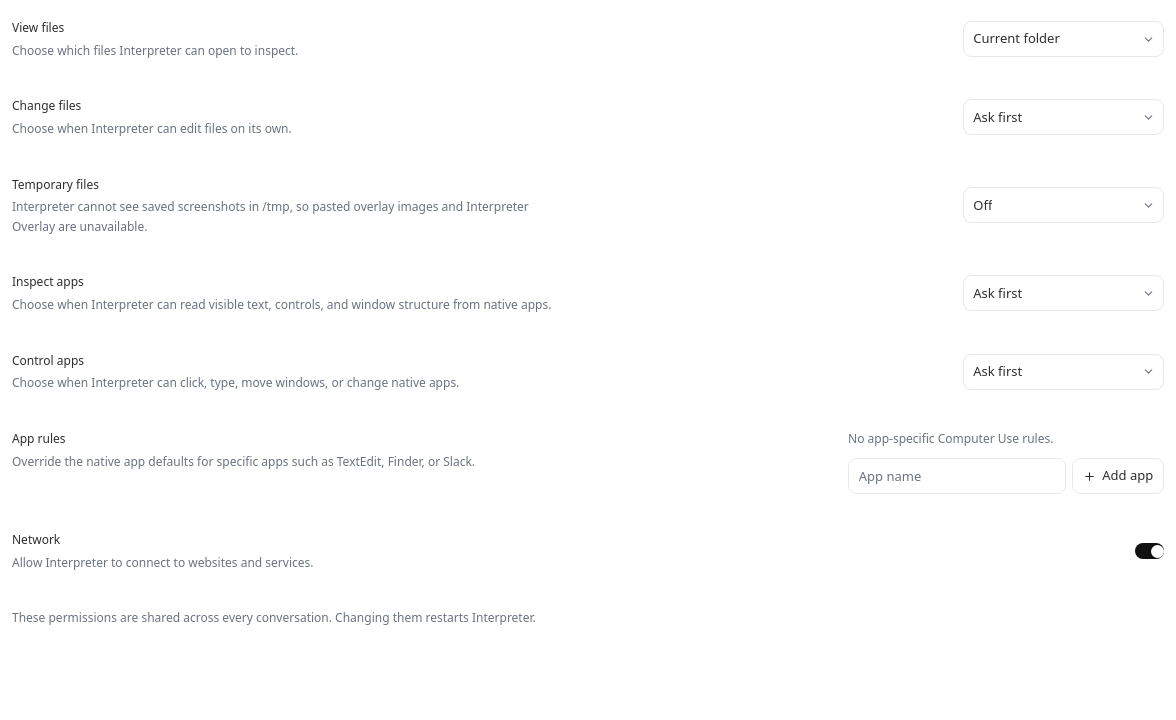
Scenario: NativeToolsSection › warns that turning off temporary files disables overlay screenshots
Expected: the text "Temporary files" is shown, left=12, top=176, right=99, bottom=192
Expected: the text "Interpreter cannot see saved screenshots in /tmp, so pasted overlay images and Interpreter Overlay are unavailable." is shown, left=12, top=198, right=529, bottom=235
Click the dropdown labelled "Off": [1063, 205] box left=962, top=187, right=1164, bottom=223
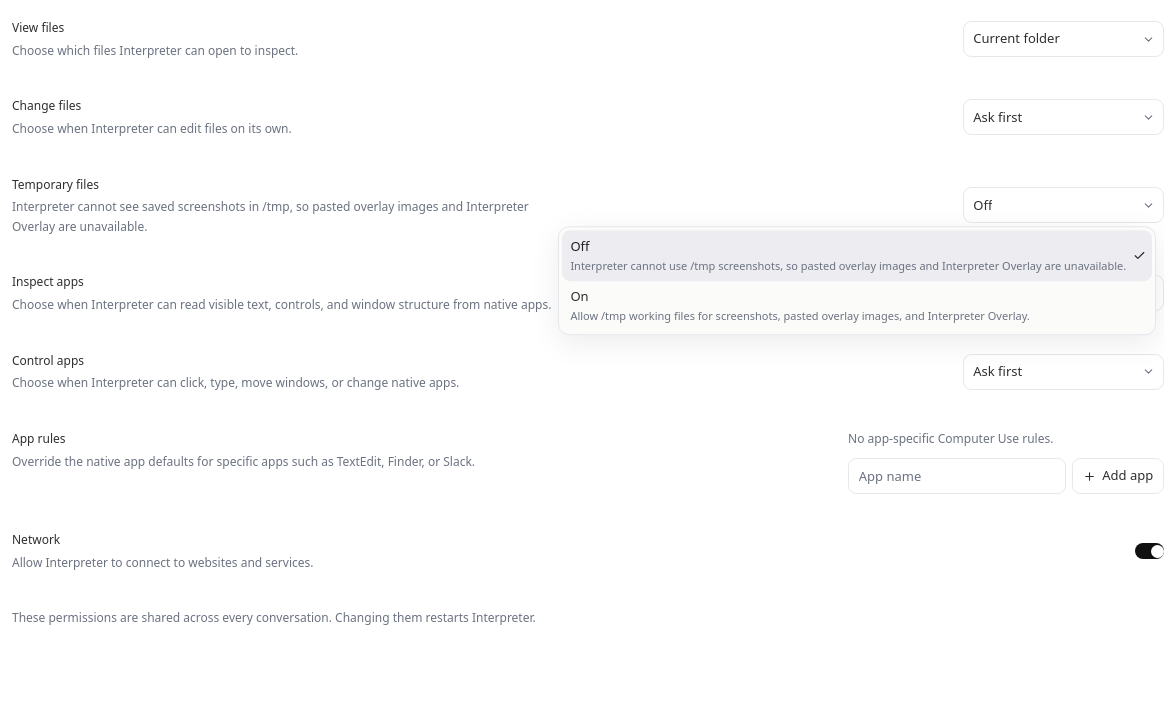
Expected: the text "Interpreter cannot use /tmp screenshots, so pasted overlay images and Interpreter Overlay are unavailable." is shown, left=570, top=258, right=1126, bottom=273
